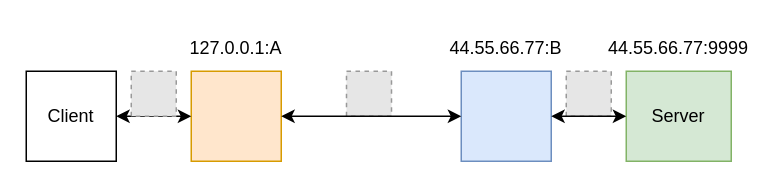
Image size: 774x188. Some labels were removed from this diagram. Grey dashed boxes stand in for pictures. Each missing label, with the box of its shape:
stclient: (190, 70, 281, 161)
stserver: (460, 70, 551, 161)
